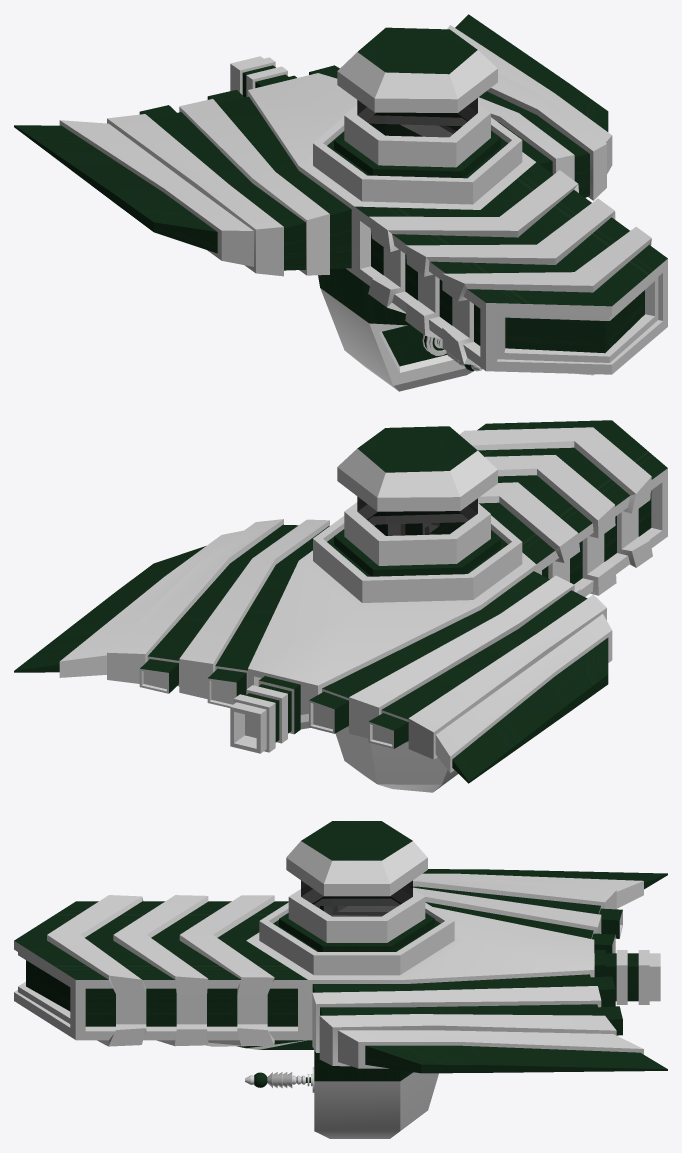
The model's file is DBE.fbx.
The picture shows the model from 3 angles, top to bottom: view 1: azimuth 30°, elevation 25°; view 2: azimuth 150°, elevation 25°; view 3: azimuth 270°, elevation 25°; orthographic projection. The views are drawn at different scales.
Parts seen in each view (by area): view 1: DBE; view 2: DBE; view 3: DBE.
Part boxes in pixels (<box>): DBE: <box>14,14,667,391</box>; DBE: <box>14,420,667,792</box>; DBE: <box>14,821,667,1138</box>.
Size of the model in its own units: 6.01 by 4.06 by 8.49.
